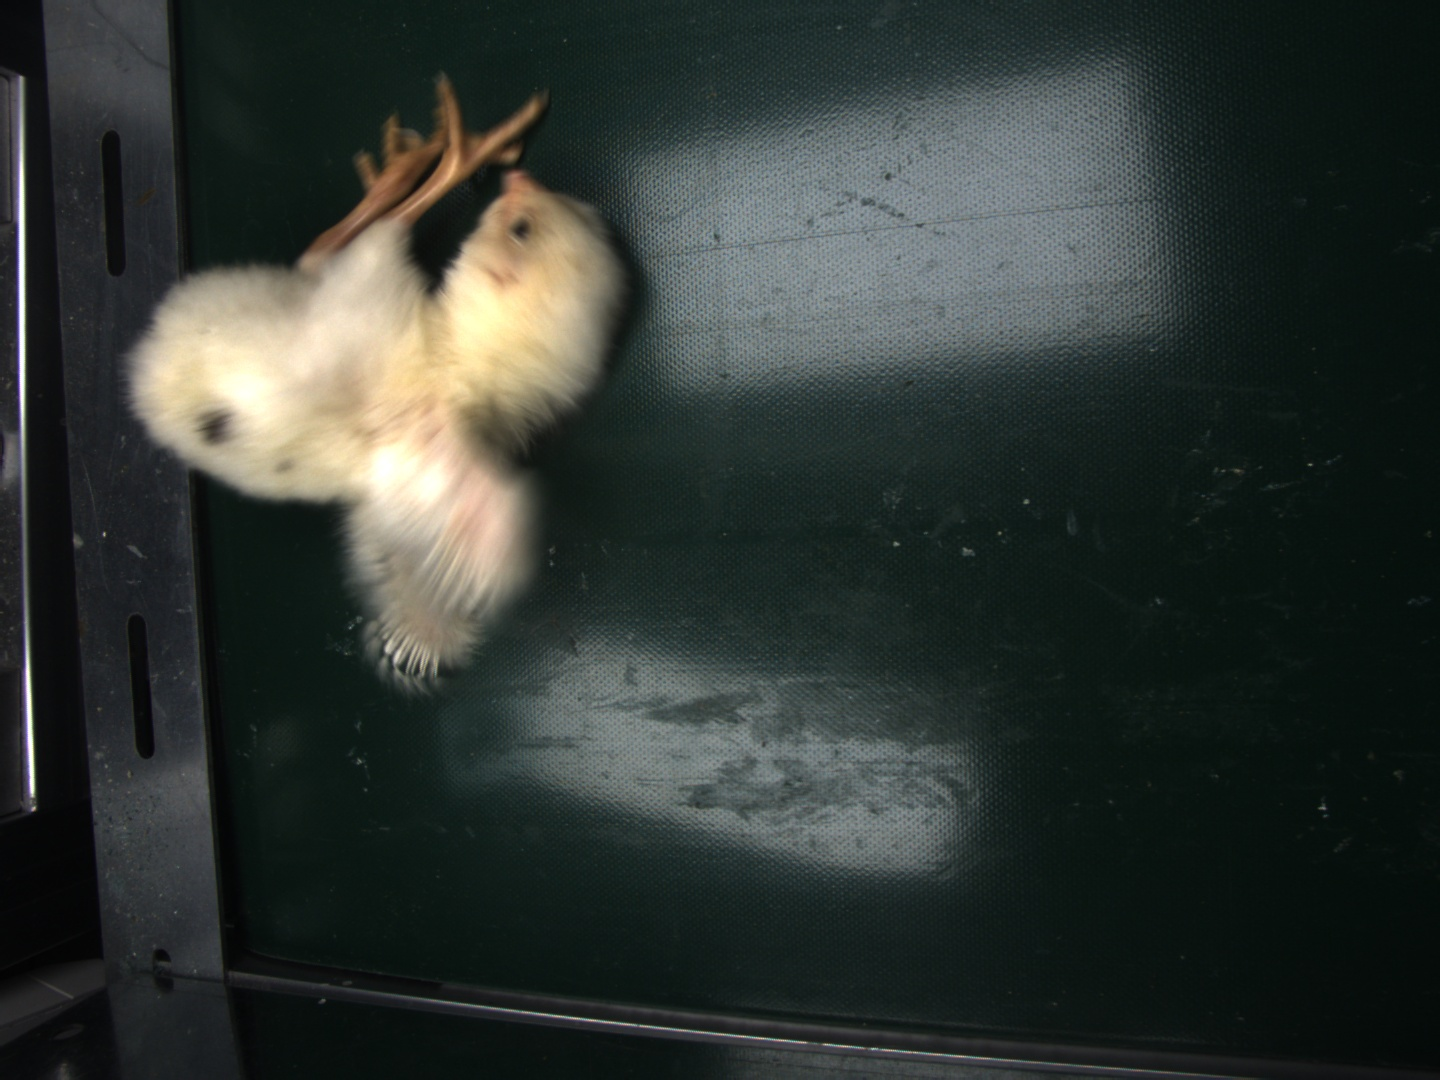male: (379, 622, 443, 680)
